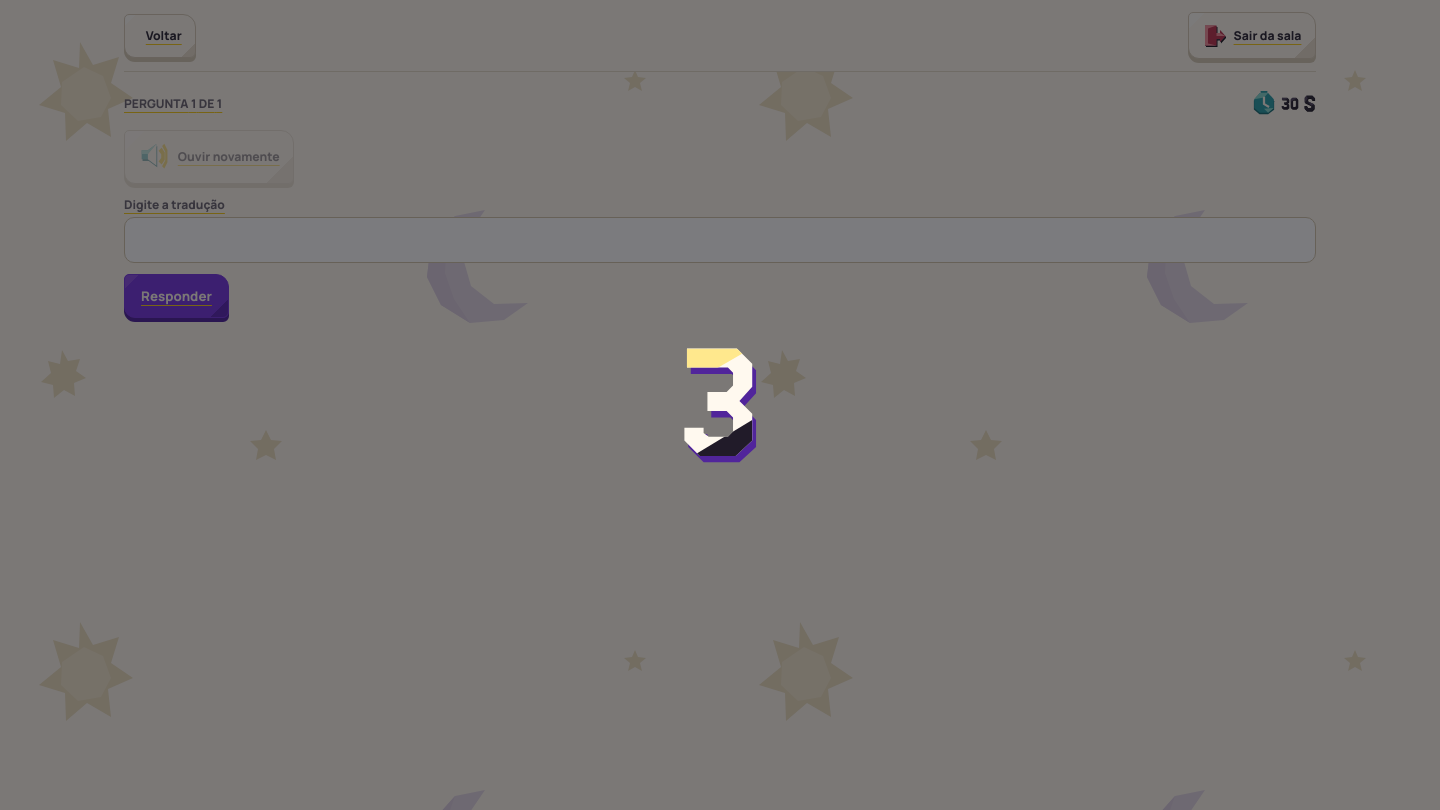
Test case: resposta do participante › bloqueia ouvir antes do início, inclusive para o criador: false
Click the button "Ouvir novamente".
click(209, 157)  # box [124,130,294,184]
Wait 3000 ms
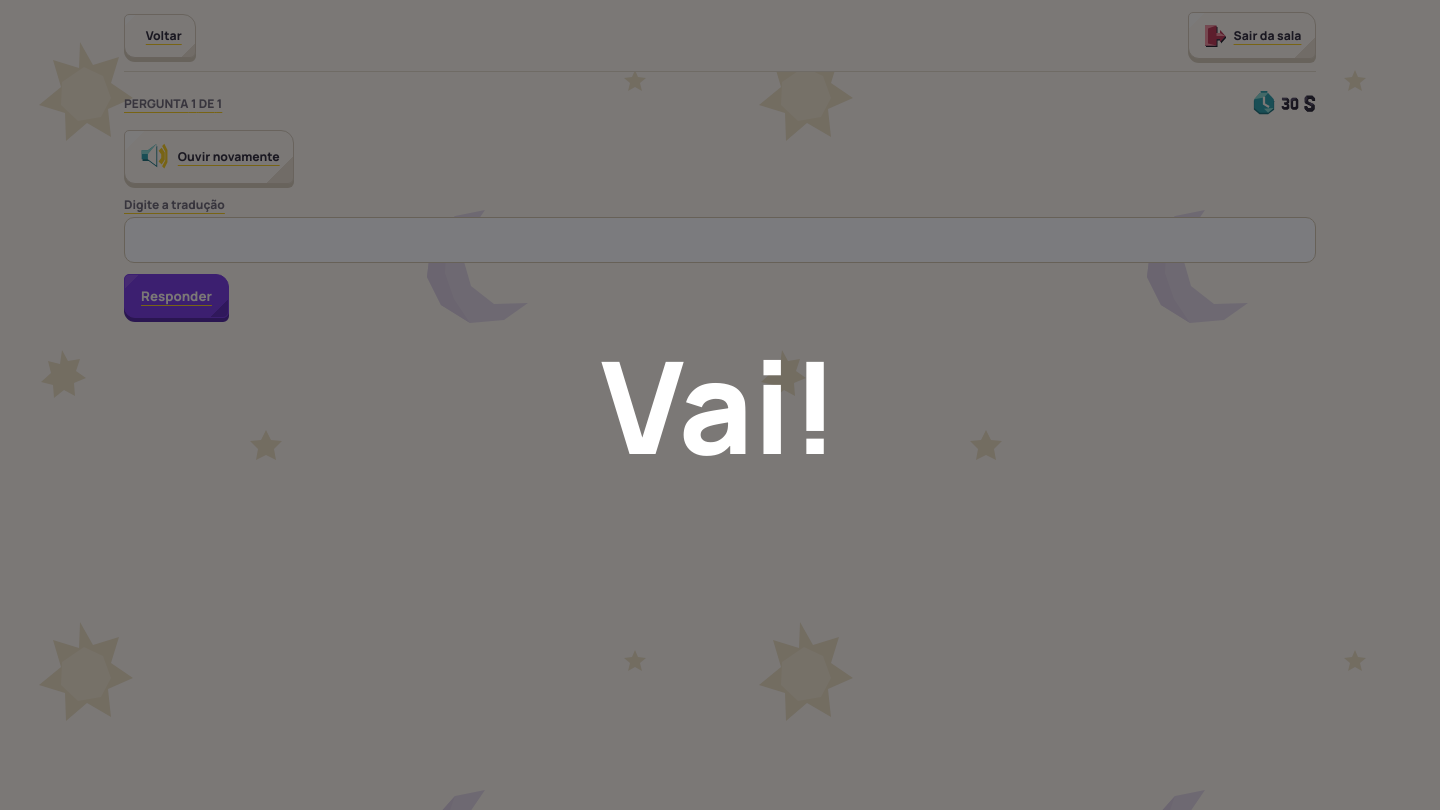
Now the button "Ouvir novamente" is enabled, box [124,130,294,184]
